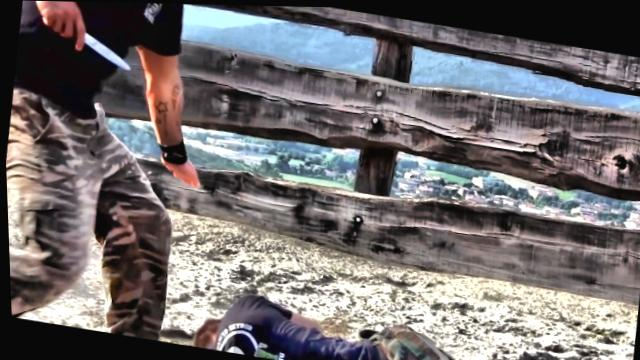knife: (35, 4, 143, 72)
